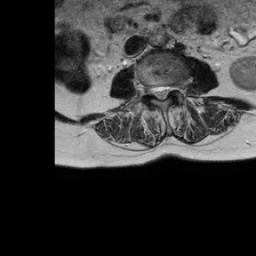CCS_normal: (157, 78, 163, 105)
LFS_stenosis: (170, 77, 177, 99)
LLS_normal: (163, 77, 170, 101)
RFS_normal: (143, 76, 150, 100)
RLS_normal: (150, 78, 157, 102)
